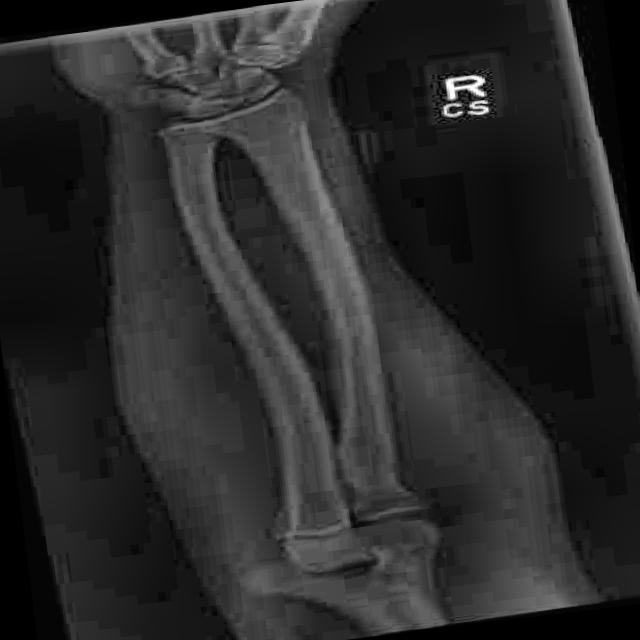forearm fracture: (308, 419, 376, 488)
